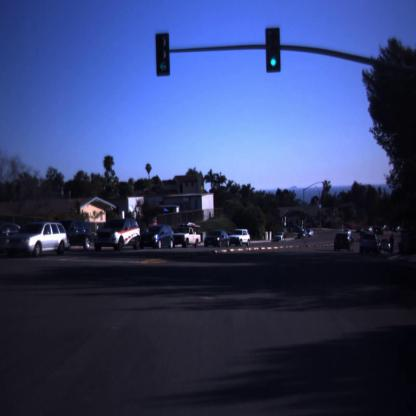trafficlight: (262, 25, 284, 74), (156, 31, 173, 77)
